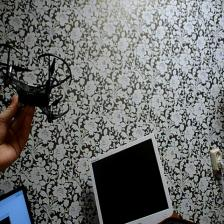drone: (0, 33, 75, 128)
